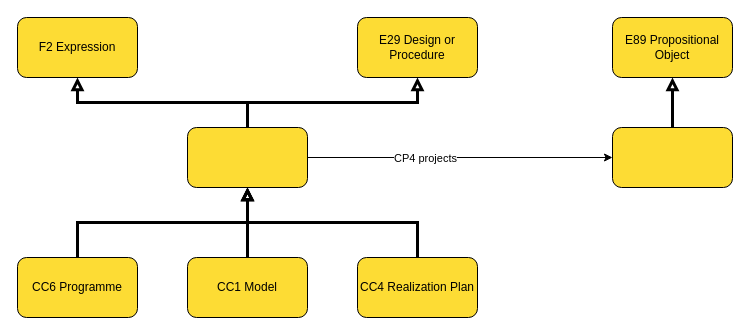
This 750x335 diagram has some shape labels left out. The centre of each missing label's shape, as x and y in pixels:
"CC12 Event Trigger Template" goes at (672,157).
"CC5 Formulation" goes at (247,157).
